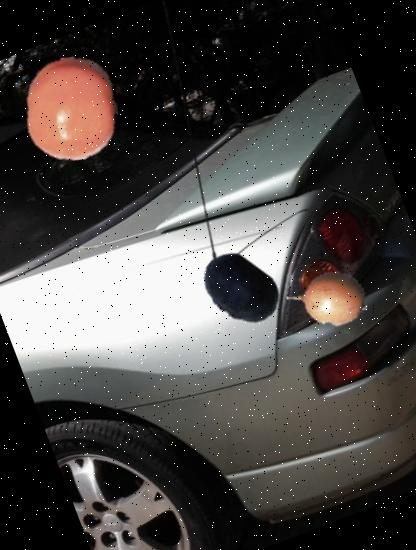Blueberry: (188, 236, 294, 342)
Clementine: (5, 42, 140, 176)
Granadilla: (274, 246, 380, 351)
